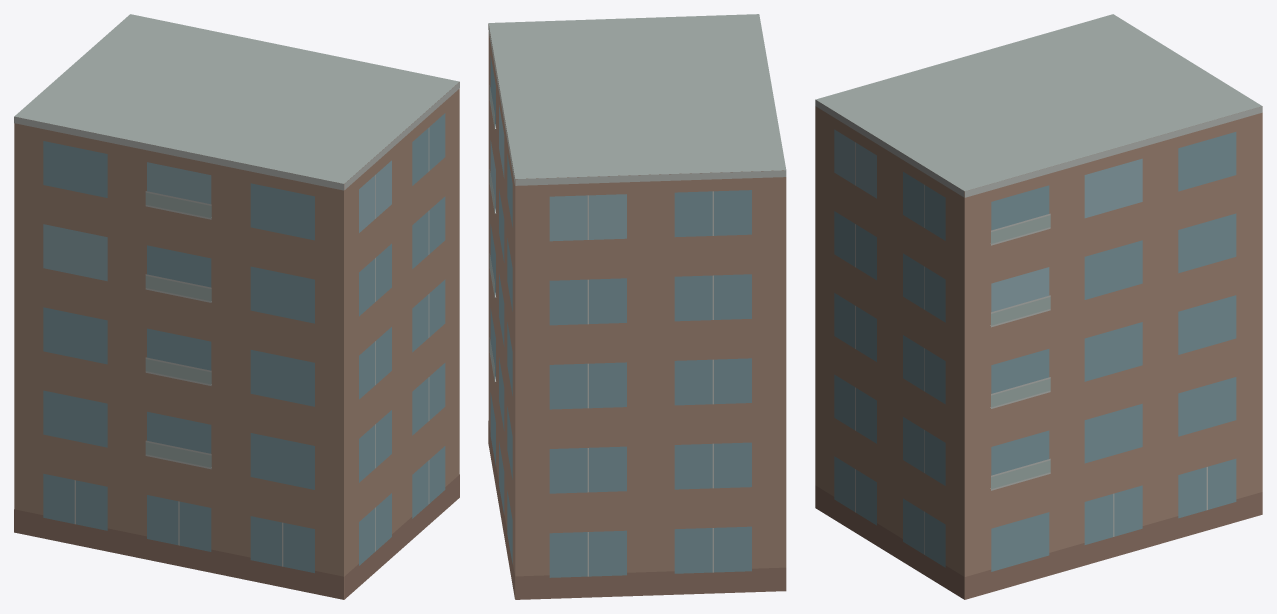
Rendered from survey-upis-33022347.glb.
The picture shows the model from 3 angles, left to right: view 1: azimuth 30°, elevation 25°; view 2: azimuth 150°, elevation 25°; view 3: azimuth 270°, elevation 25°; orthographic projection. The views are drawn at different scales.
Parts seen in each view (by area): view 1: survey-upis-33022347.tmp; view 2: survey-upis-33022347.tmp; view 3: survey-upis-33022347.tmp.
Boxes of the visible parts, bbox=[...] form: survey-upis-33022347.tmp: bbox=[14, 14, 459, 599]; survey-upis-33022347.tmp: bbox=[488, 14, 786, 599]; survey-upis-33022347.tmp: bbox=[815, 14, 1262, 599].
Size of the model in its own units: 14.16 by 15.2 by 15.08.
